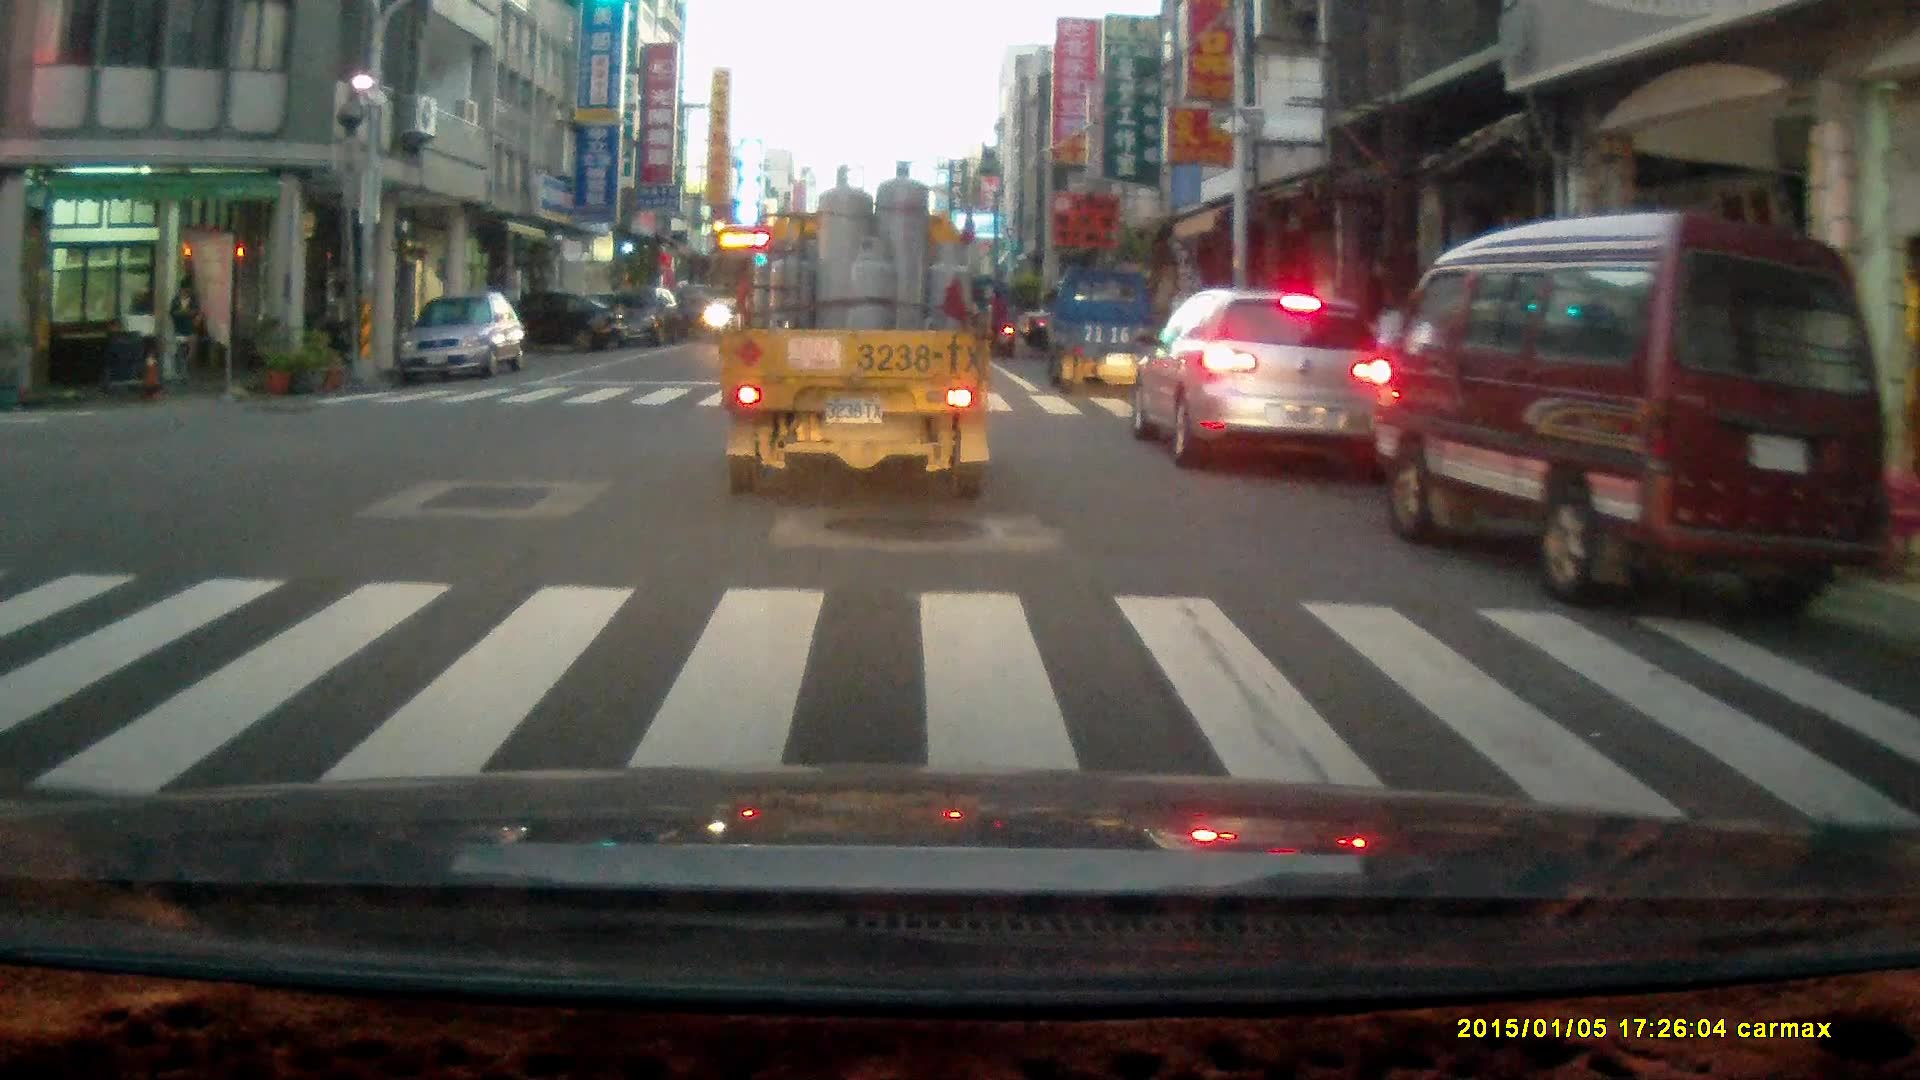pedestrian: (168, 272, 204, 392)
vehicle: (1378, 211, 1889, 621), (721, 164, 995, 506), (1132, 288, 1385, 480), (1048, 272, 1182, 408), (396, 290, 523, 383), (466, 294, 625, 362), (585, 287, 683, 348)
